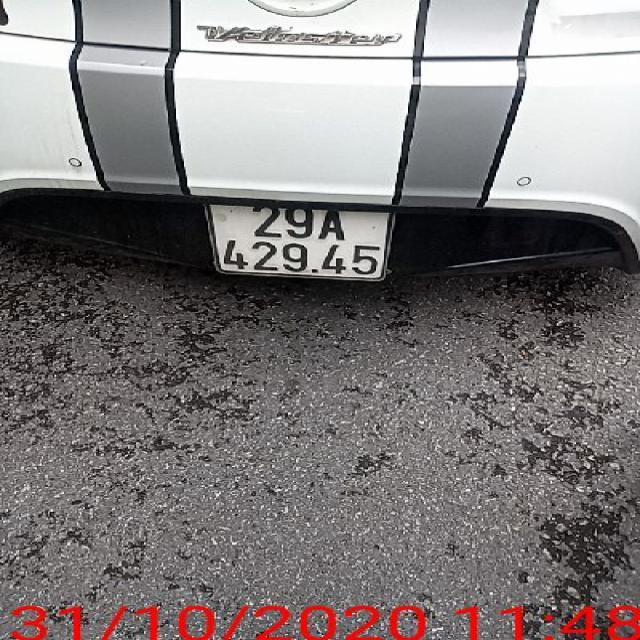bien_so_oto: (202, 202, 396, 282)
